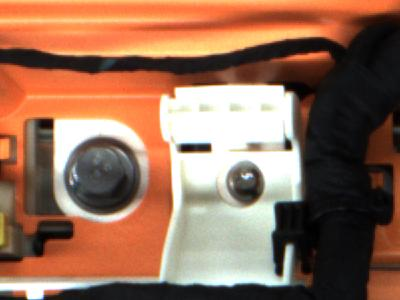nut_b: (62, 135, 155, 227)
